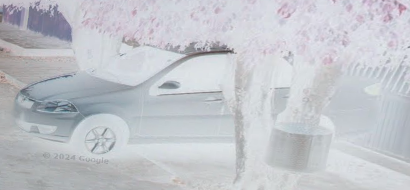car: (10, 42, 220, 167)
